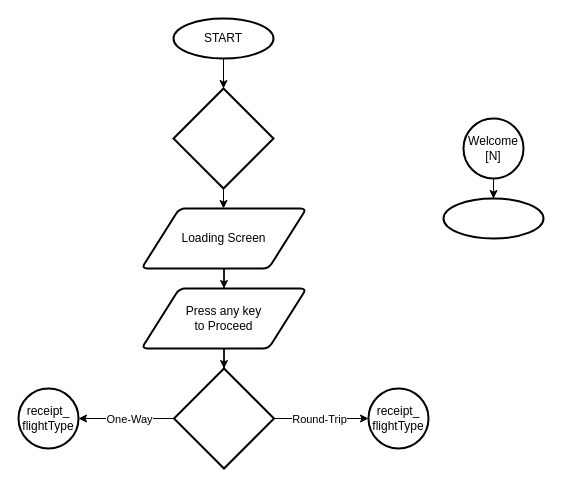
Image size: 561x486. Some labels were removed from this diagram. The shapes that lost their labels are listed below. From the top down, each one's centre as x and y in pixels, then its label:
At pixel 223 138: "Welcome Screen".
At pixel 493 218: "END".
At pixel 223 418: "Type of Reservation".
